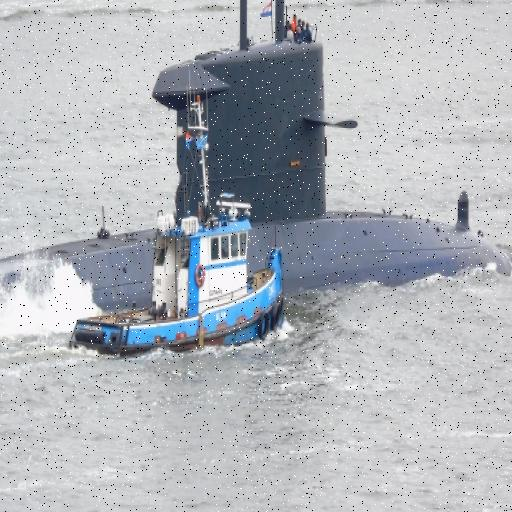submarine: (1, 1, 512, 331)
